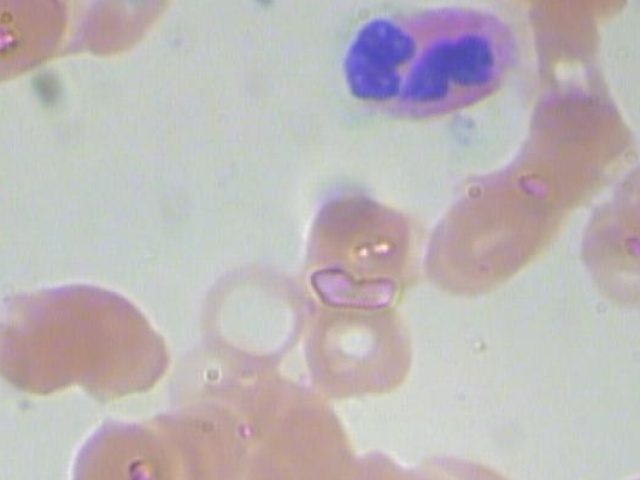RBC: (299, 187, 424, 315), (423, 179, 548, 307), (185, 250, 310, 377), (299, 286, 424, 413), (0, 274, 113, 395), (67, 279, 175, 401), (566, 187, 640, 315), (54, 415, 199, 480), (0, 0, 70, 87), (635, 0, 640, 148)
WBC: (332, 1, 526, 128)
